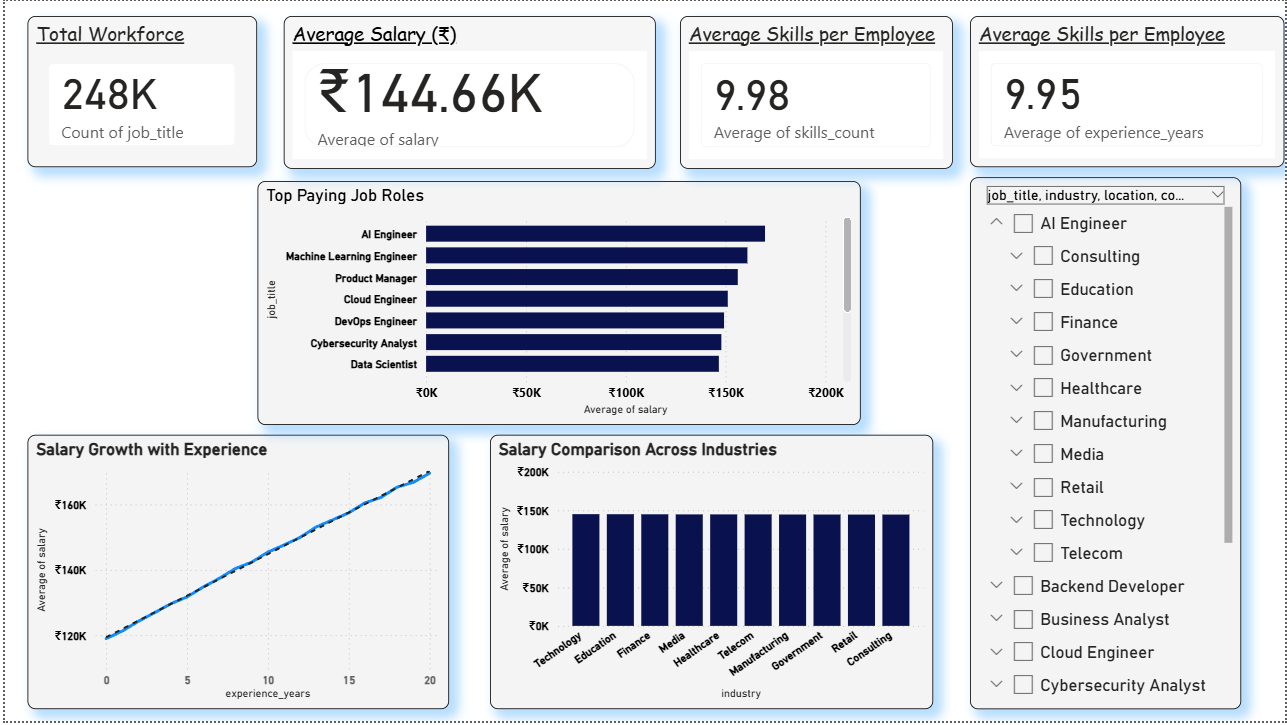

The page's visual inventory and layout, read from the dashboard file:
{"tool":"powerbi","page":{"name":"Page 1","canvas":[1280,720],"ordinal":0},"visuals":[{"type":"slicer","fields":{"Values":["cleaned_data.job_title","cleaned_data.industry","cleaned_data.location","cleaned_data.company_size","cleaned_data.remote_work"]},"box":[965.2,176,271.2,532.4],"z":0},{"type":"lineChart","title":"Salary Growth with Experience","fields":{"Category":["cleaned_data.experience_years"],"Y":["Avg(cleaned_data.salary)"]},"box":[23.1,434.3,421.3,274.1],"z":1000},{"type":"clusteredBarChart","title":"Top Paying Job Roles","fields":{"Category":["cleaned_data.job_title"],"Y":["Avg(cleaned_data.salary)"]},"box":[252.5,180.3,603.1,243.8],"z":2000},{"type":"clusteredColumnChart","title":"Salary Comparison Across Industries","fields":{"Category":["cleaned_data.industry"],"Y":["Avg(cleaned_data.salary)"]},"box":[484.8,434.3,442.9,274.1],"z":3000},{"type":"cardVisual","title":"Total Workforce","fields":{"Data":["CountNonNull(cleaned_data.job_title)"]},"box":[23.1,14.4,229.4,151.5],"z":4000},{"type":"cardVisual","title":"Average Salary (₹)","fields":{"Data":["Avg(cleaned_data.salary)"]},"box":[278.5,14.4,372.2,152.9],"z":5000},{"type":"cardVisual","title":"Average Skills per Employee","fields":{"Data":["Avg(cleaned_data.skills_count)"]},"box":[675.2,14.4,272.7,152.9],"z":6000},{"type":"cardVisual","title":"Average Skills per Employee","fields":{"Data":["Avg(cleaned_data.experience_years)"]},"box":[965.2,14.4,314.5,151.5],"z":7000}]}

Visuals, with their boxes in screenshot pixels (x1, y1, x2, y2), scaled from the page's 1280x720 canvas onto the 1287x725 screenshot:
slicer - cleaned_data.job_title x cleaned_data.industry: (970,177,1243,713)
"Salary Growth with Experience" lineChart: (23,437,447,713)
"Top Paying Job Roles" clusteredBarChart: (254,182,860,427)
"Salary Comparison Across Industries" clusteredColumnChart: (487,437,933,713)
"Total Workforce" cardVisual: (23,14,254,167)
"Average Salary (₹)" cardVisual: (280,14,654,168)
"Average Skills per Employee" cardVisual: (679,14,953,168)
"Average Skills per Employee" cardVisual: (970,14,1286,167)
